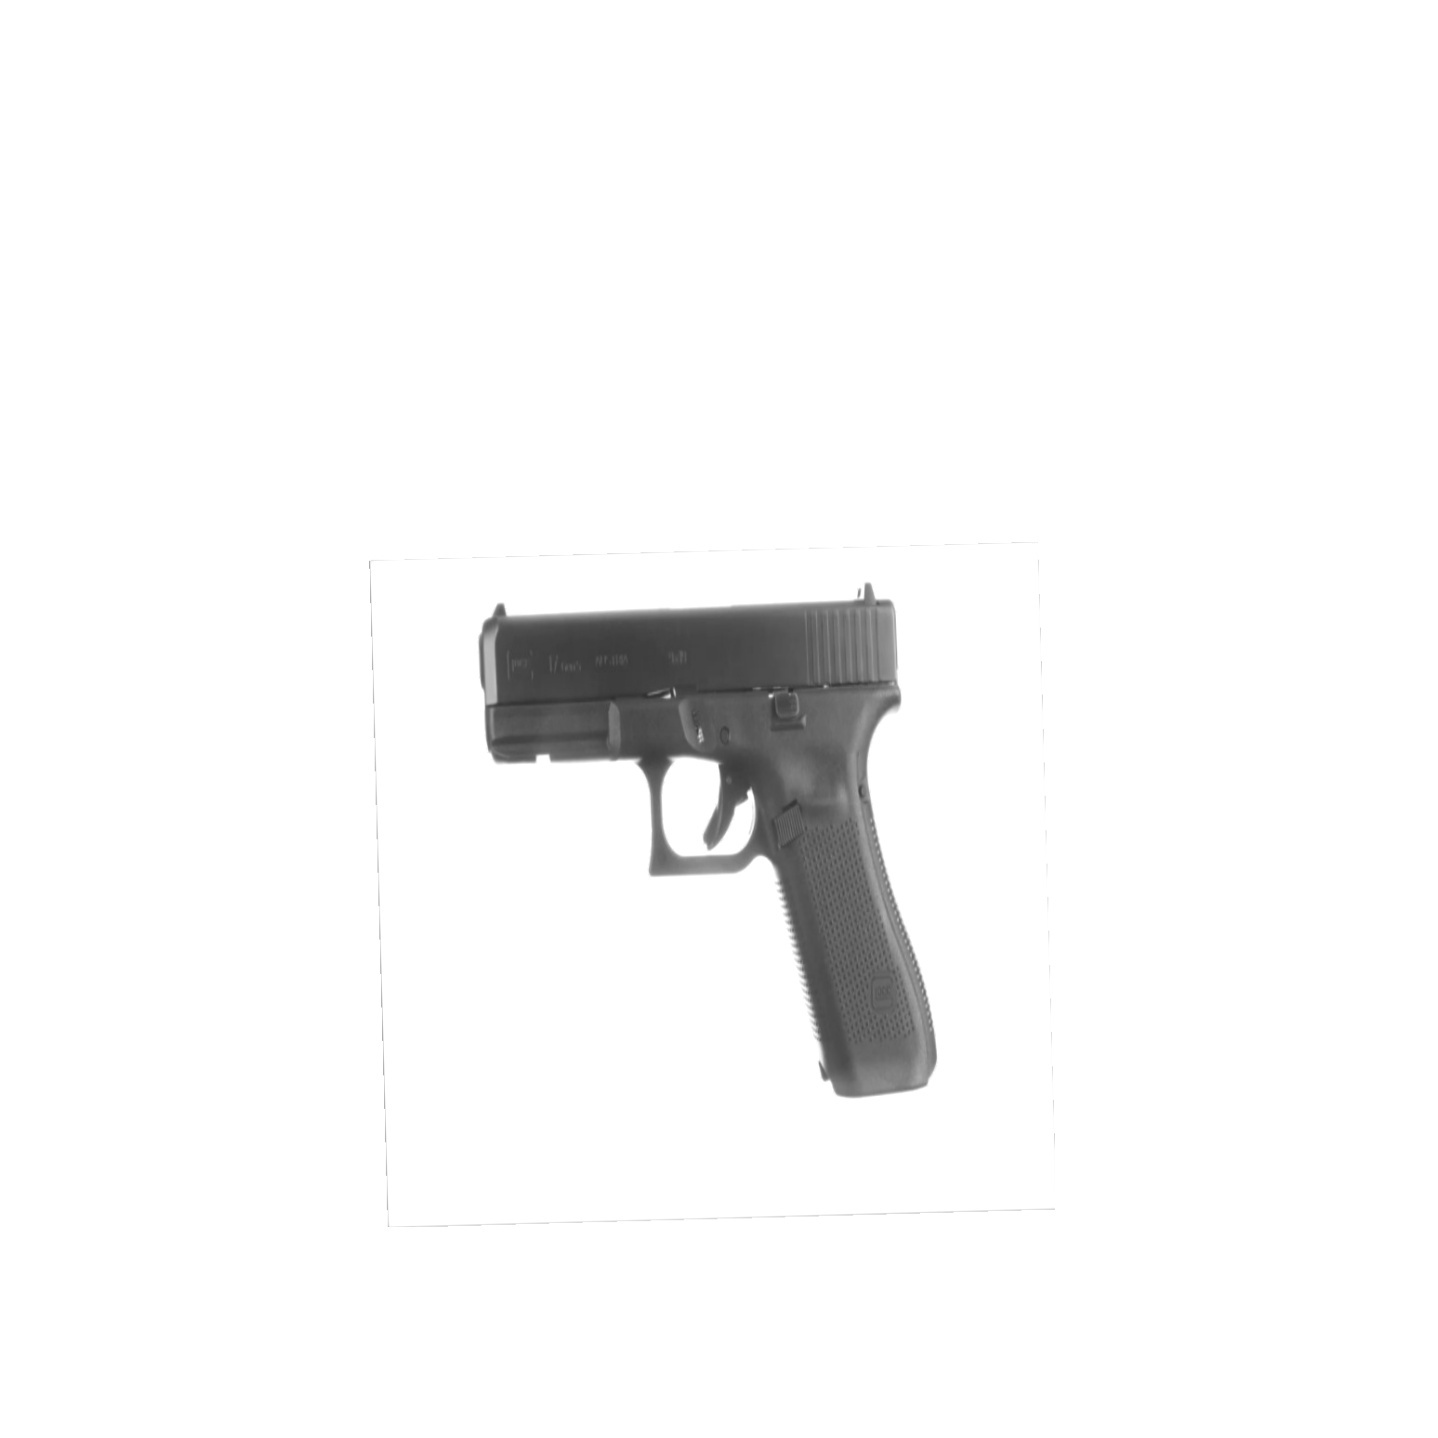gun: (477, 577, 940, 1104)
